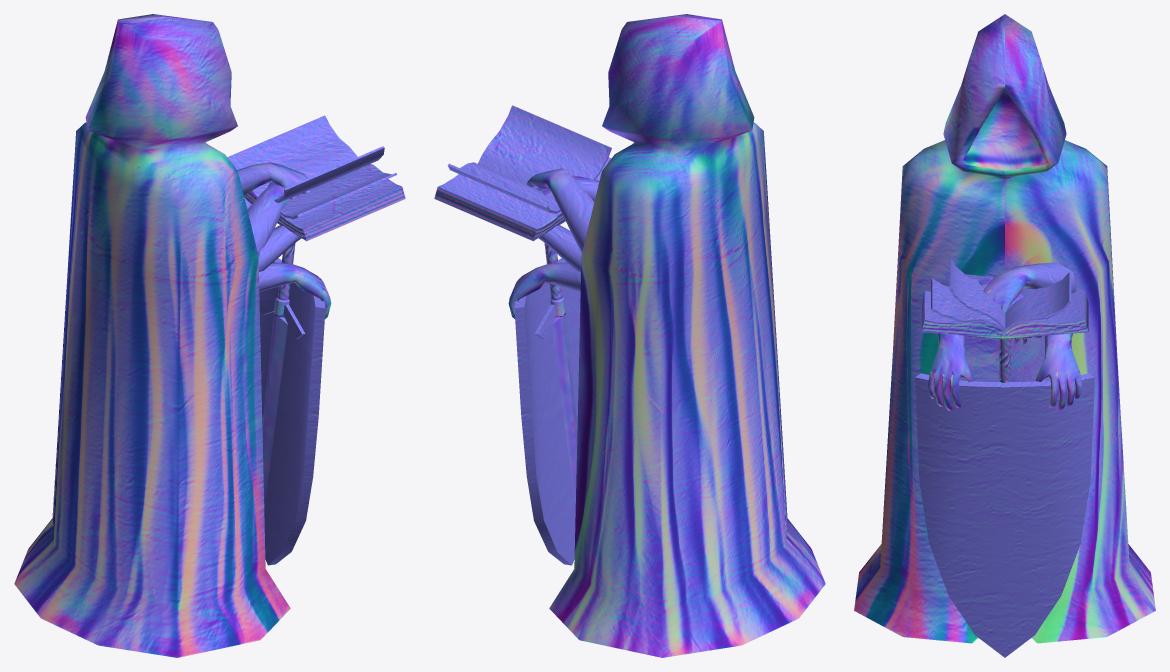
The model's file is statue_monk_book.FBX.
3 views of the same model, side by side, from view 1: azimuth 30°, elevation 25°; view 2: azimuth 150°, elevation 25°; view 3: azimuth 270°, elevation 25° (orthographic). The views are drawn at different scales.
Visible parts, largest first — view 1: Monk, Shield, Book_Pages, Sword, Book, Shield_Hand_R, Sword_Hand_R, Sword_Hand_L, Book_Hand_R; view 2: Monk, Shield, Book_Pages, Book, Sword, Sword_Hand_L, Shield_Hand_L, Book_Hand_L; view 3: Monk, Shield, Book_Pages, Book, Shield_Hand_L, Shield_Hand_R, Sword_Hand_L, Sword.
Boxes of the visible parts, x1=… form: Monk: x1=14, y1=14, x2=290, y2=657; Shield: x1=259, y1=258, x2=325, y2=565; Book_Pages: x1=227, y1=115, x2=396, y2=219; Sword: x1=259, y1=243, x2=305, y2=508; Book: x1=244, y1=179, x2=405, y2=241; Shield_Hand_R: x1=259, y1=262, x2=331, y2=318; Sword_Hand_R: x1=247, y1=182, x2=289, y2=257; Sword_Hand_L: x1=237, y1=162, x2=311, y2=199; Book_Hand_R: x1=258, y1=225, x2=301, y2=271; Monk: x1=549, y1=14, x2=825, y2=657; Shield: x1=514, y1=258, x2=580, y2=565; Book_Pages: x1=447, y1=105, x2=611, y2=213; Book: x1=434, y1=174, x2=565, y2=241; Sword: x1=534, y1=243, x2=580, y2=508; Sword_Hand_L: x1=527, y1=168, x2=594, y2=252; Shield_Hand_L: x1=508, y1=262, x2=580, y2=318; Book_Hand_L: x1=538, y1=225, x2=581, y2=271; Monk: x1=854, y1=14, x2=1155, y2=643; Shield: x1=915, y1=373, x2=1094, y2=657; Book_Pages: x1=931, y1=257, x2=1071, y2=331; Book: x1=921, y1=290, x2=1088, y2=338; Shield_Hand_L: x1=1035, y1=333, x2=1081, y2=410; Shield_Hand_R: x1=928, y1=333, x2=974, y2=410; Sword_Hand_L: x1=983, y1=262, x2=1076, y2=314; Sword: x1=999, y1=338, x2=1010, y2=382.
Bounding box in the file's own units: 117 × 201 × 96.69.
